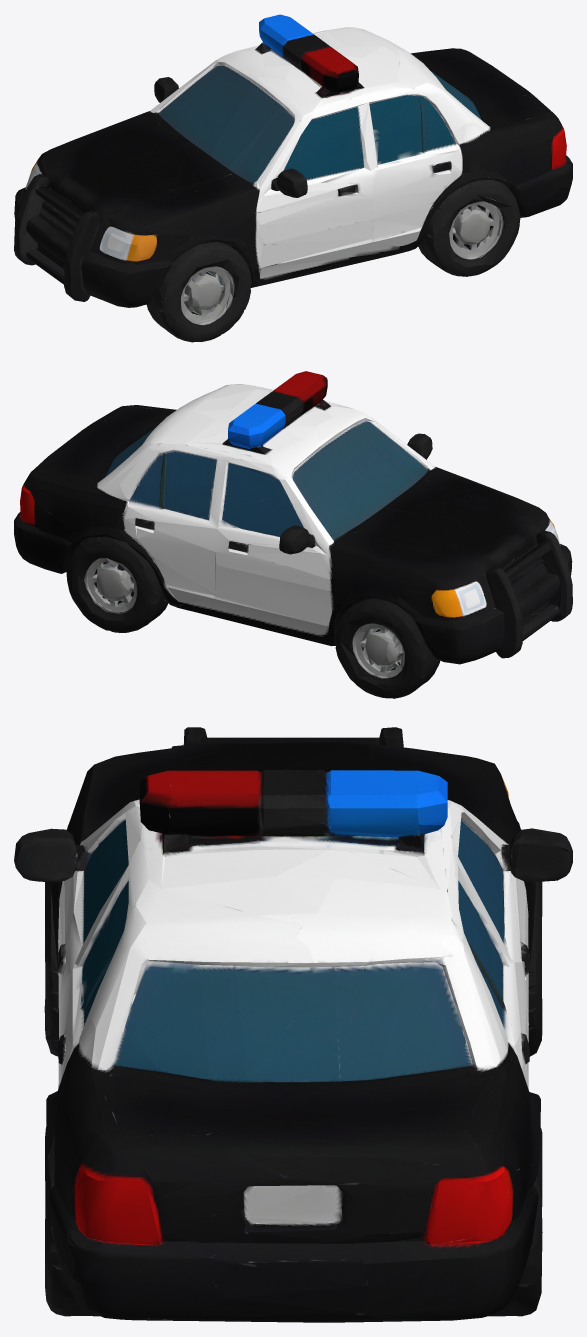
File: police_cruiser.glb
The picture shows the model from 3 angles, top to bottom: view 1: azimuth 30°, elevation 25°; view 2: azimuth 150°, elevation 25°; view 3: azimuth 270°, elevation 25°; orthographic projection. The views are drawn at different scales.
Bounding box in the file's own units: 1.9 × 0.799 × 0.9575.
Materials: 1 (1 with a texture image).
